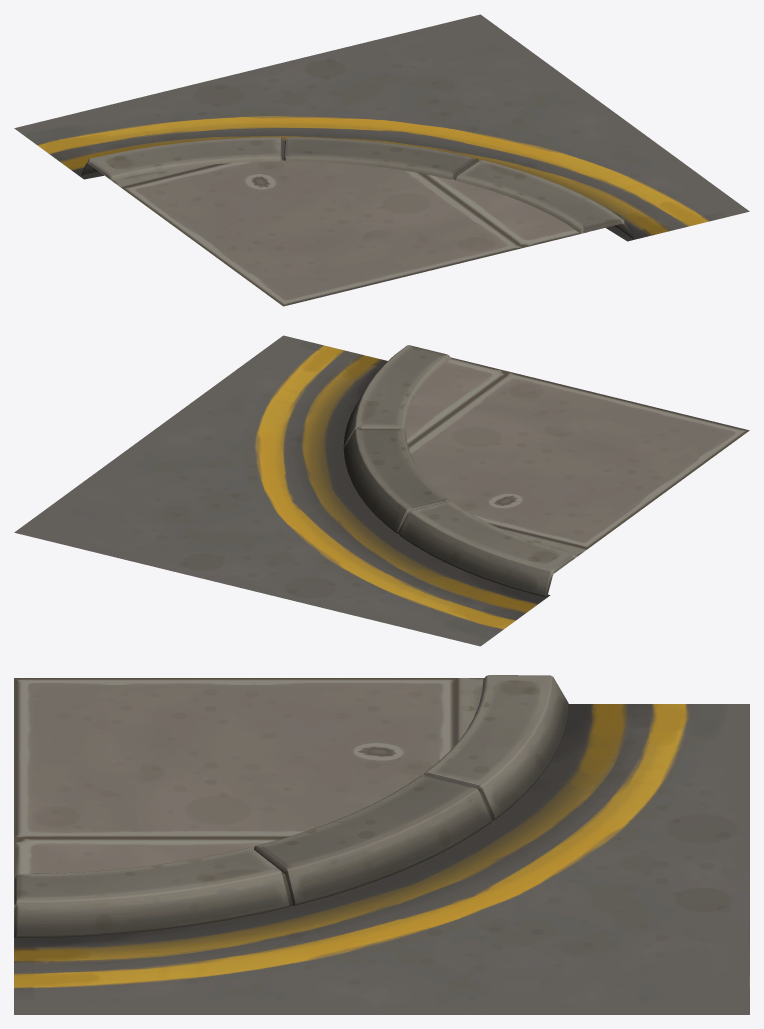
File: Road_Side_Corner.fbx
The picture shows the model from 3 angles, top to bottom: view 1: azimuth 30°, elevation 25°; view 2: azimuth 150°, elevation 25°; view 3: azimuth 270°, elevation 25°; orthographic projection. The views are drawn at different scales.
Visible parts, largest first — view 1: path_corner_01 (2); view 2: path_corner_01 (2); view 3: path_corner_01 (2).
Boxes of the visible parts, box(x1,y1,x2,y2) form: path_corner_01 (2): box(14, 14, 749, 306); path_corner_01 (2): box(14, 335, 749, 646); path_corner_01 (2): box(14, 675, 749, 1014).
Bounding box in the file's own units: 240 × 11.05 × 240.
